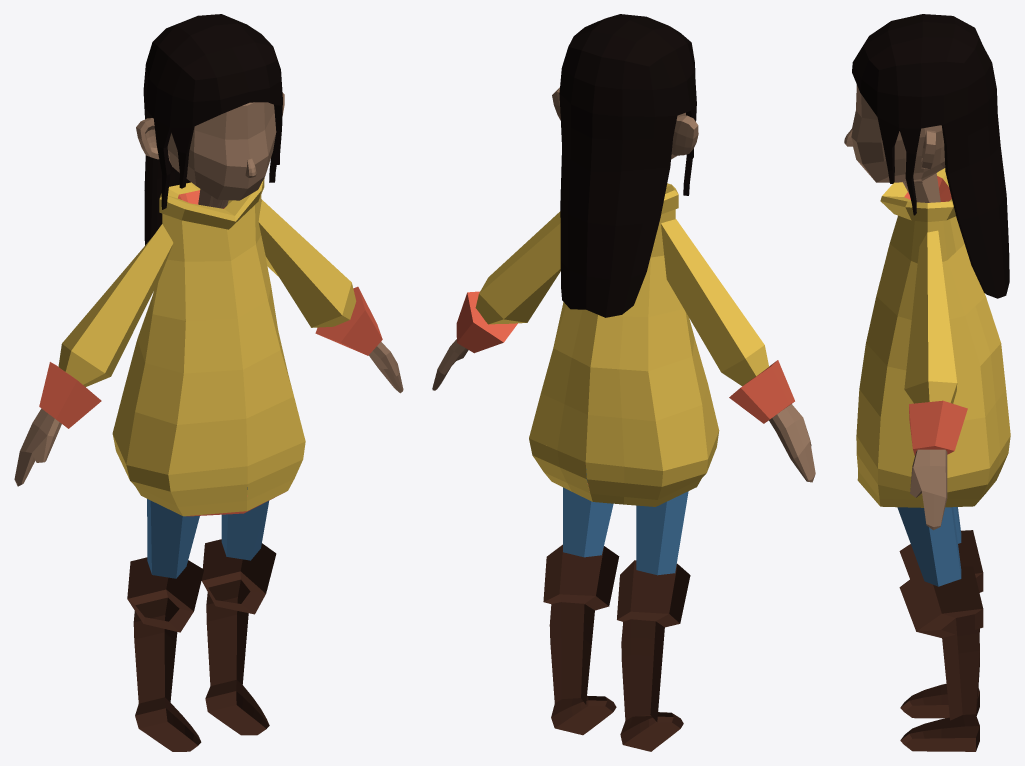
File: Girl.glb
3 renders of one model, left to right at view 1: azimuth 30°, elevation 25°; view 2: azimuth 150°, elevation 25°; view 3: azimuth 270°, elevation 25°, orthographic.
Visible parts, largest first — view 1: Cube, Cylinder, Cylinder.001, Cube.003, Cube.001, Cube.002; view 2: Cube, Cube.003, Cylinder, Cylinder.001, Cube.002; view 3: Cube, Cube.003, Cylinder, Cylinder.001, Cube.001, Cube.002.
Boxes of the visible parts, x1,y1,x2,y2 form: Cube: [112, 178, 305, 516]; Cylinder: [127, 487, 276, 751]; Cylinder.001: [14, 199, 403, 486]; Cube.003: [143, 14, 282, 245]; Cube.001: [167, 102, 276, 208]; Cube.002: [136, 93, 284, 159]; Cube: [529, 183, 719, 506]; Cube.003: [559, 14, 696, 317]; Cylinder: [543, 469, 690, 751]; Cylinder.001: [432, 211, 815, 482]; Cube.002: [552, 87, 698, 155]; Cube: [856, 168, 1010, 507]; Cube.003: [852, 14, 1009, 298]; Cylinder: [897, 507, 983, 751]; Cylinder.001: [904, 230, 967, 530]; Cube.001: [844, 84, 945, 202]; Cube.002: [921, 130, 935, 169].
Size of the model in its own units: 2.11 by 3.75 by 0.8001.
